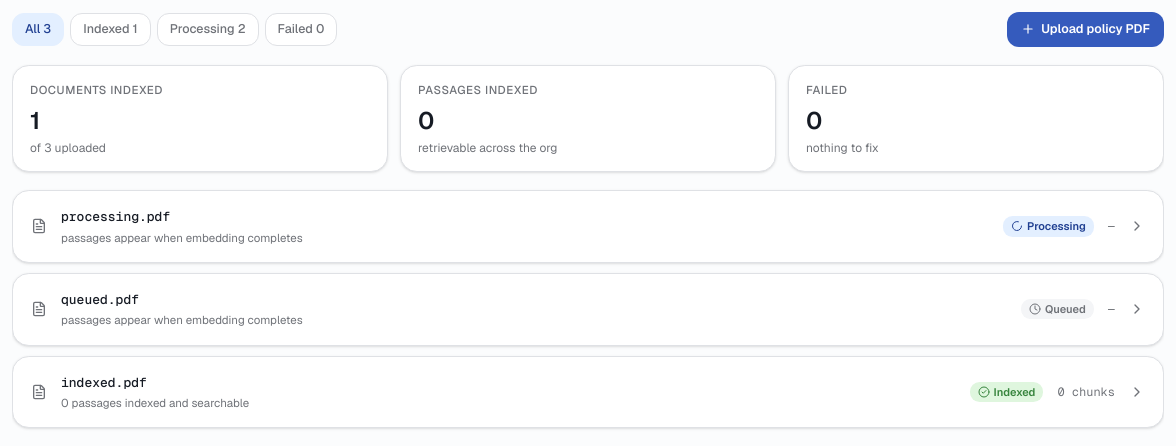
Test case: PolicyList › filters to Processing including both PROCESSING and PENDING documents
The image size is (1176, 446).
Click the button "Processing 2". click: [208, 29]
box: x1=157 y1=13 x2=259 y2=46
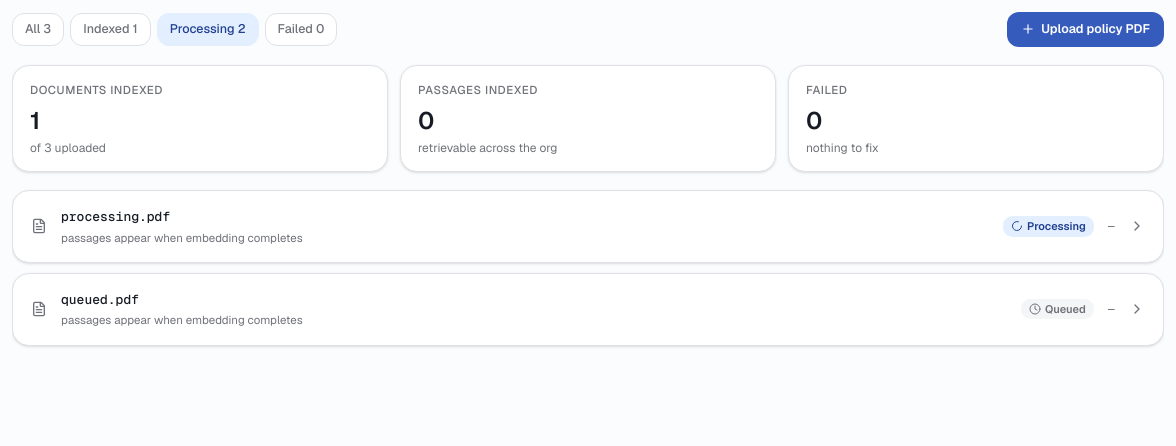
Check: the text "processing.pdf" is shown, box x1=61 y1=208 x2=170 y2=225
Check: the link "indexed.pdf" is gone
